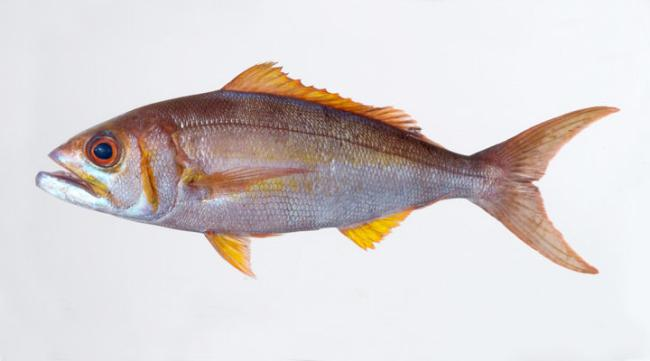fish: (36, 63, 615, 280)
